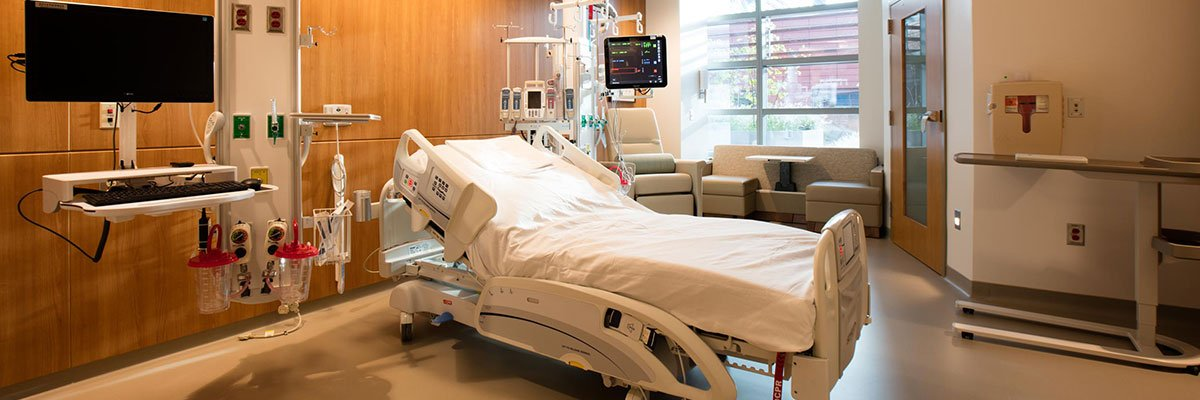bedrail: (480, 277, 739, 400), (387, 121, 499, 252), (534, 125, 633, 191)
bedside_monitor: (604, 34, 672, 93)
computer: (29, 1, 214, 106)
door_handle: (919, 111, 935, 135)
foot_board: (792, 197, 903, 400)
hospital_bed: (378, 102, 877, 400)
infusion_pump: (501, 79, 577, 122)
iv_pole: (492, 19, 522, 87)
keyboard: (89, 168, 246, 219)
medical_waste_container: (998, 79, 1067, 151)
mouse: (246, 175, 264, 189)
sofa: (710, 133, 879, 237), (608, 102, 704, 212)
table: (963, 152, 1200, 364)
